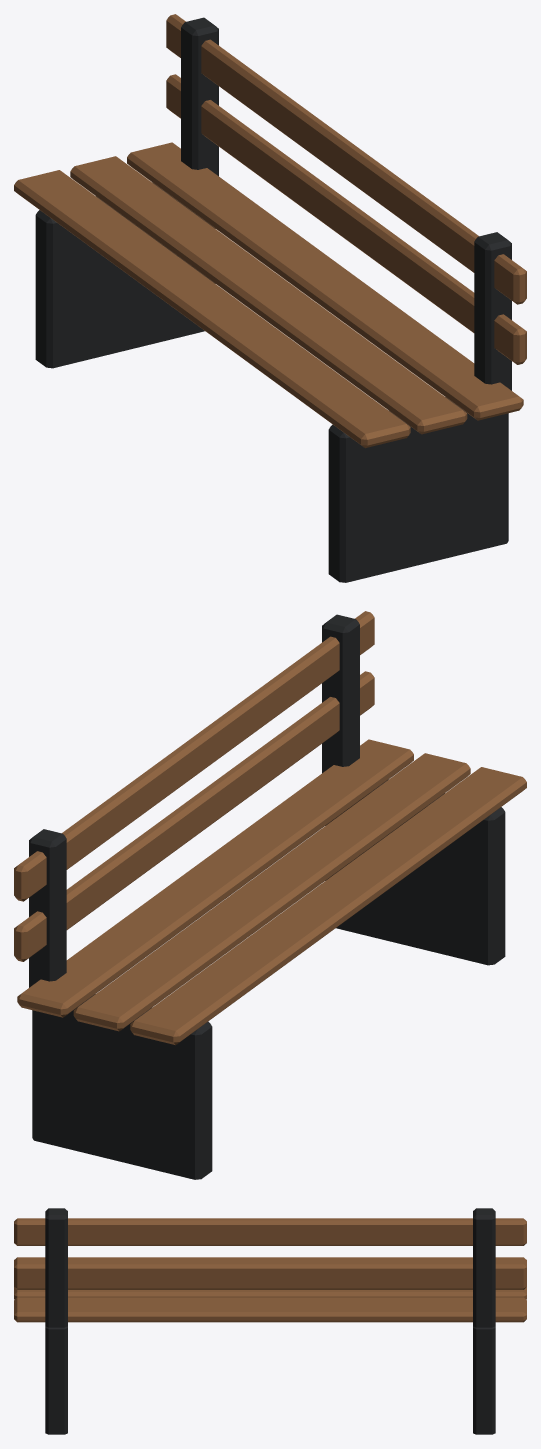
File: prop_bench.glb
The picture shows the model from 3 angles, top to bottom: view 1: azimuth 30°, elevation 25°; view 2: azimuth 150°, elevation 25°; view 3: azimuth 270°, elevation 25°; orthographic projection. The views are drawn at different scales.
Parts seen in each view (by area): view 1: prop_bench_LOD0; view 2: prop_bench_LOD0; view 3: prop_bench_LOD0.
Boxes of the visible parts, box(x1,y1,x2,y2) form: prop_bench_LOD0: box(14, 14, 526, 582); prop_bench_LOD0: box(14, 611, 526, 1179); prop_bench_LOD0: box(14, 1208, 526, 1434).
Size of what is drawn, in the model's own units: 0.5098 by 0.8501 by 1.8.
